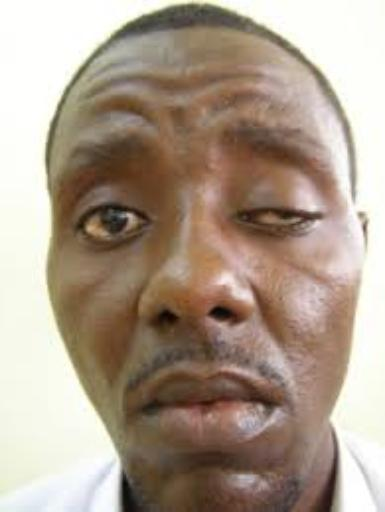left_eye: (232, 197, 325, 236)
left_lip_corner: (257, 384, 290, 418)
right_eye: (74, 203, 152, 249)
right_lip_corner: (135, 393, 168, 420)
